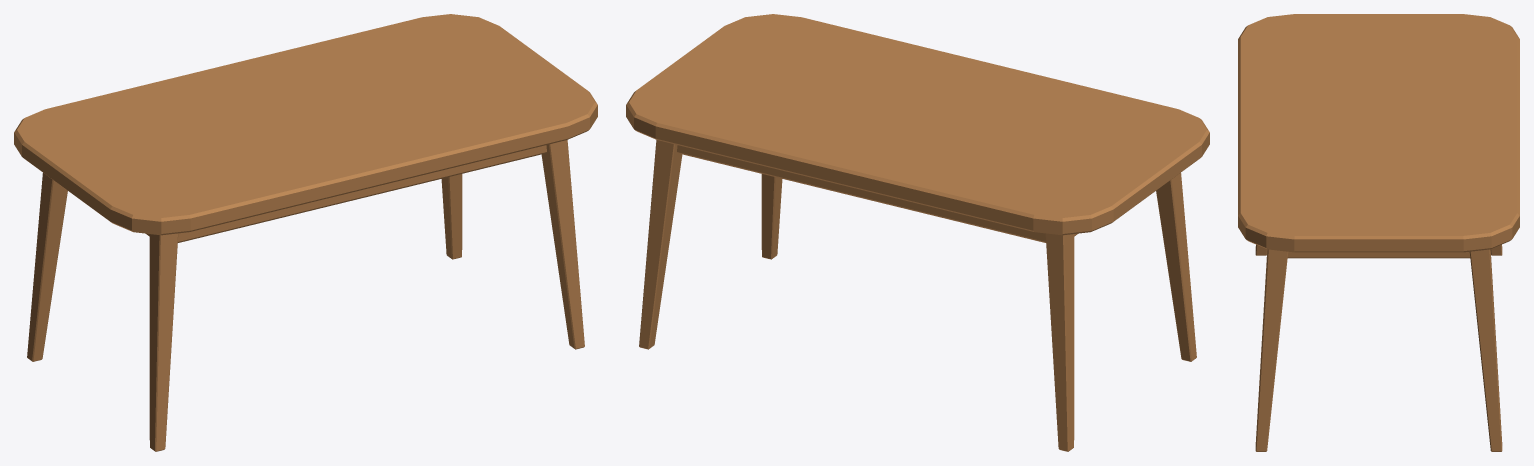
File: 02_dining_table.glb
3 renders of one model, left to right at view 1: azimuth 30°, elevation 25°; view 2: azimuth 150°, elevation 25°; view 3: azimuth 270°, elevation 25°, orthographic. The views are drawn at different scales.
Parts seen in each view (by area): view 1: Chamfered_oak_top, Tapered_leg_00.001, Tapered_leg_01.001, Tapered_leg_02.001, Long_apron, Tapered_leg_03.001; view 2: Chamfered_oak_top, Tapered_leg_02.001, Tapered_leg_03.001, Tapered_leg_00.001, Long_apron.001, Tapered_leg_01.001; view 3: Chamfered_oak_top, Tapered_leg_01.001, Tapered_leg_03.001, End_apron.001.
Part boxes in pixels (bbox=[...]): Chamfered_oak_top: bbox=[14, 14, 597, 235]; Tapered_leg_00.001: bbox=[149, 233, 178, 451]; Tapered_leg_01.001: bbox=[541, 140, 584, 349]; Tapered_leg_02.001: bbox=[27, 173, 67, 361]; Long_apron: bbox=[178, 145, 546, 242]; Tapered_leg_03.001: bbox=[441, 174, 462, 259]; Chamfered_oak_top: bbox=[626, 14, 1209, 235]; Tapered_leg_02.001: bbox=[1045, 233, 1074, 451]; Tapered_leg_03.001: bbox=[639, 140, 682, 349]; Tapered_leg_00.001: bbox=[1156, 173, 1196, 361]; Long_apron.001: bbox=[677, 145, 1045, 242]; Tapered_leg_01.001: bbox=[761, 174, 782, 259]; Chamfered_oak_top: bbox=[1238, 14, 1519, 252]; Tapered_leg_01.001: bbox=[1255, 249, 1288, 451]; Tapered_leg_03.001: bbox=[1469, 249, 1502, 451]; End_apron.001: bbox=[1287, 251, 1470, 258].
Size of the model in its own units: 1.6 by 0.755 by 0.85.
